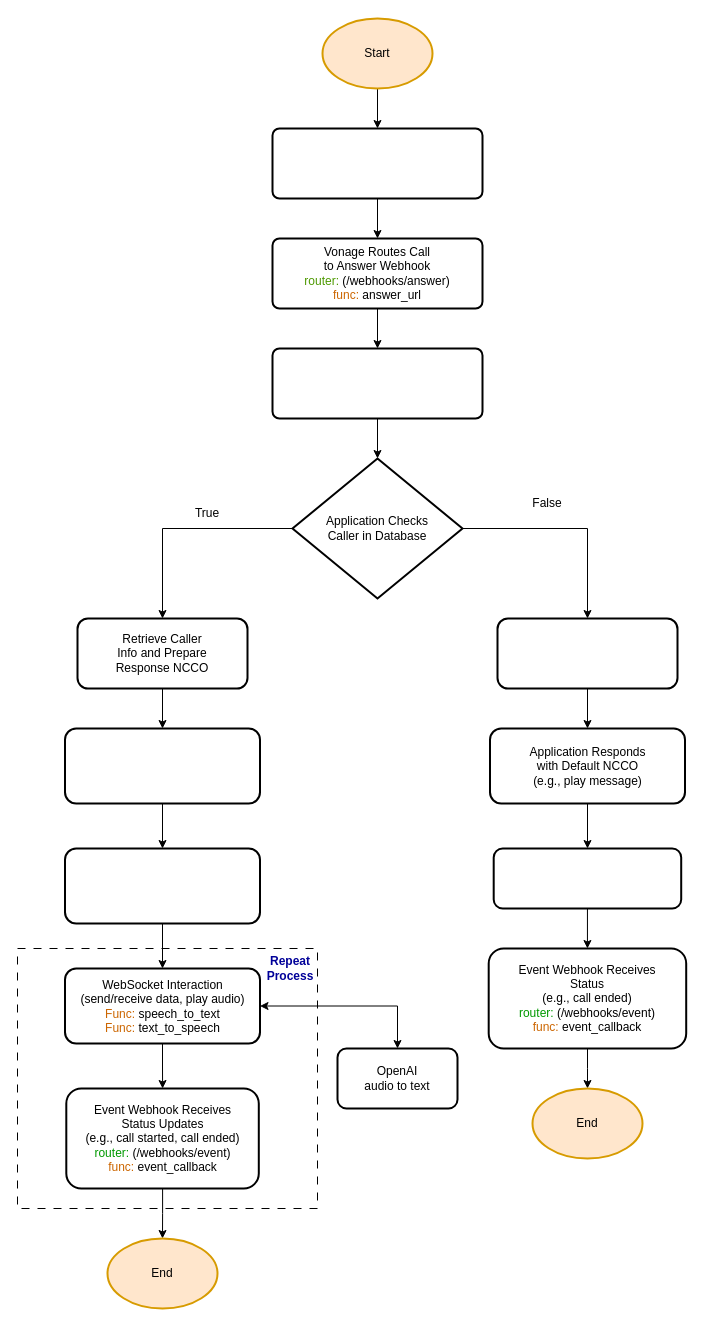
This 705x1326 diagram has some shape labels left out. Each missing label, with the centre of its shape:
"Application Responds with NCCO Actions (e.g., connect, talk,websocket)" belongs at pixel 162 765.
"Call Actions Executed (e.g., call connected, message played)" belongs at pixel 162 885.
"Call End" belongs at pixel 587 878.
"Handle Unknown Caller" belongs at pixel 587 653.
"Inbound Call to Vonage Virtual Number" belongs at pixel 377 163.
"UUID Stored in Dictionary for Active Connections" belongs at pixel 377 383.
